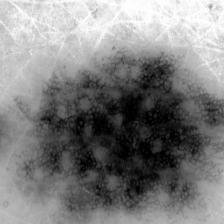Benign Marking or Mole: (11, 44, 224, 224)
